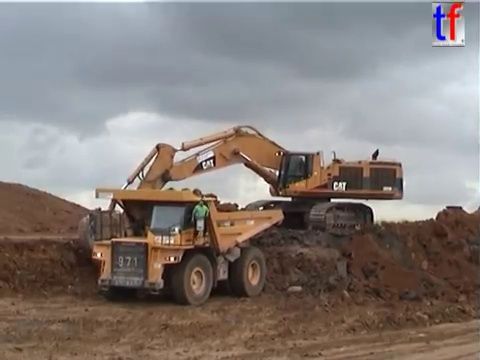excavator: (75, 122, 406, 261)
truck: (87, 185, 285, 306), (442, 203, 473, 223)
worker: (189, 197, 211, 241)
